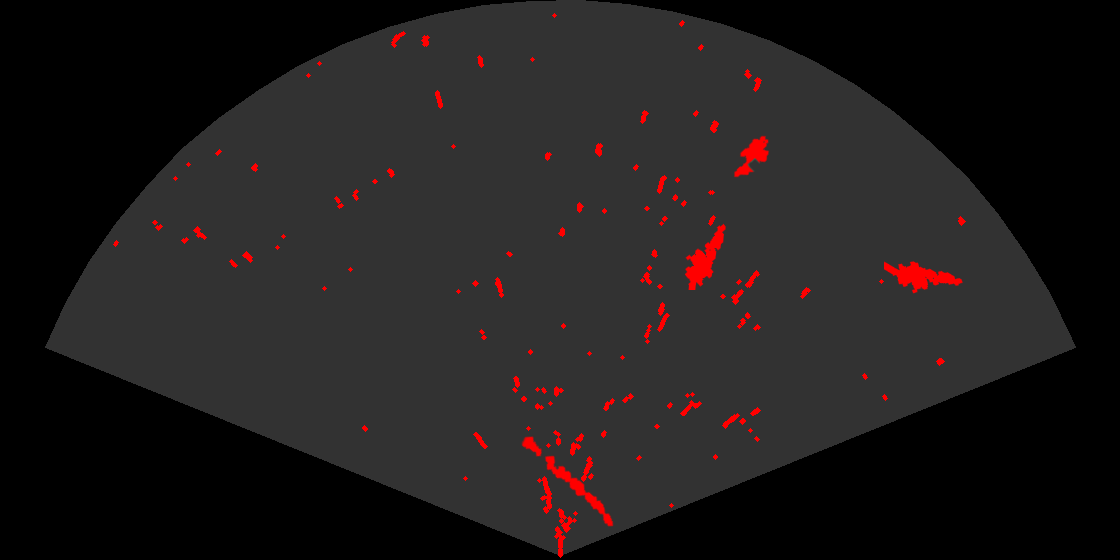AUV: (732, 134, 771, 179)
chain: (520, 435, 615, 528)
frogman: (683, 222, 727, 290), (884, 260, 964, 295)
